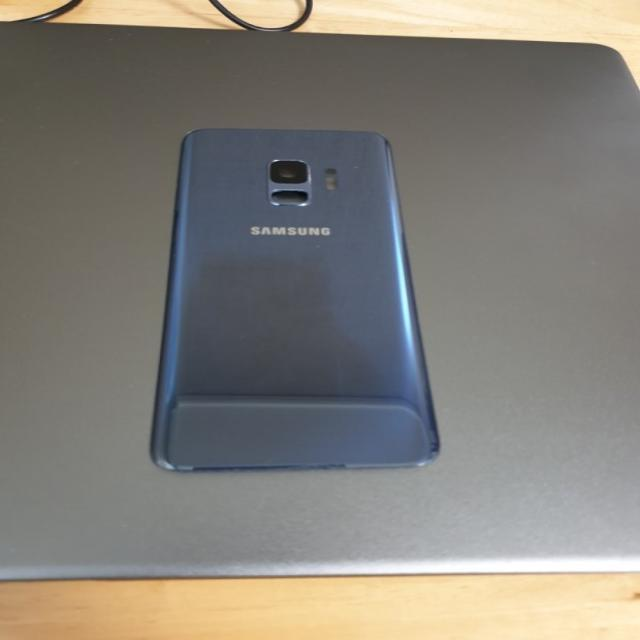phone: (147, 126, 440, 474)
